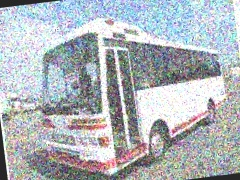bus: (27, 4, 233, 180)
